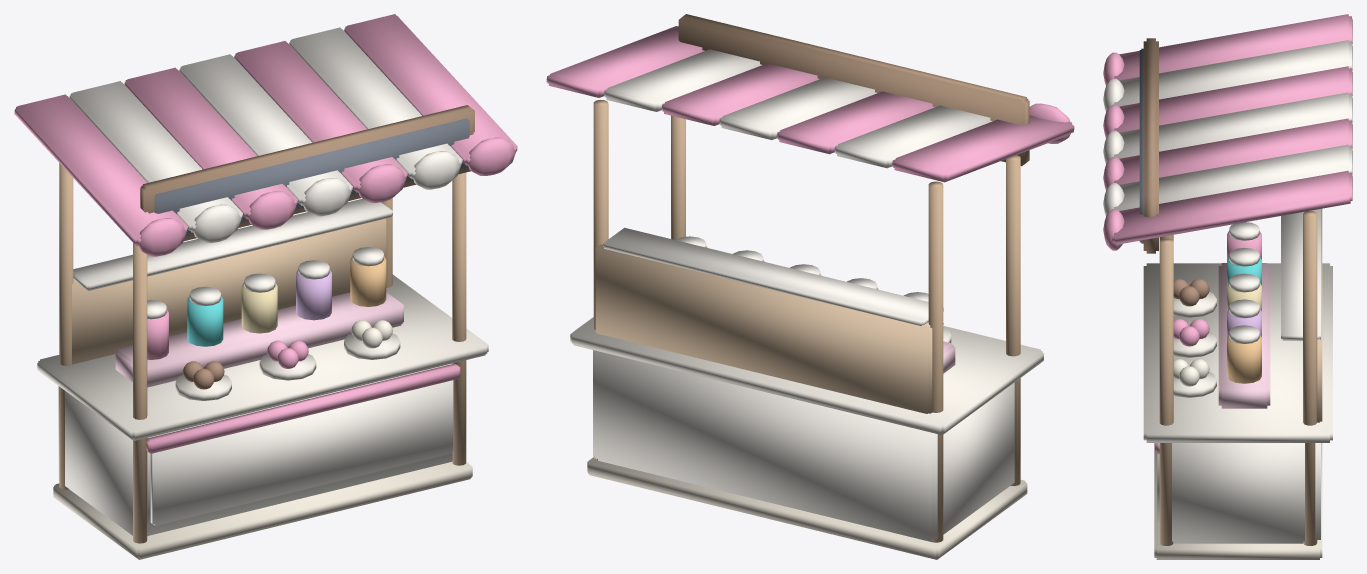
The model's file is MarketStall_Doces.fbx.
3 renders of one model, left to right at view 1: azimuth 30°, elevation 25°; view 2: azimuth 150°, elevation 25°; view 3: azimuth 270°, elevation 25°, orthographic. The views are drawn at different scales.
Parts seen in each view (by area): view 1: Estab_Base, Estab_CanopyFade; view 2: Estab_Base, Estab_CanopyFade; view 3: Estab_Base, Estab_CanopyFade.
Part boxes in pixels (bbox=[...]): Estab_Base: bbox=[37, 105, 488, 559]; Estab_CanopyFade: bbox=[14, 14, 517, 256]; Estab_Base: bbox=[570, 14, 1043, 559]; Estab_CanopyFade: bbox=[546, 26, 1074, 182]; Estab_Base: bbox=[1139, 38, 1332, 559]; Estab_CanopyFade: bbox=[1103, 14, 1352, 250].
Size of the model in its own units: 2.82 by 2.73 by 1.63.
